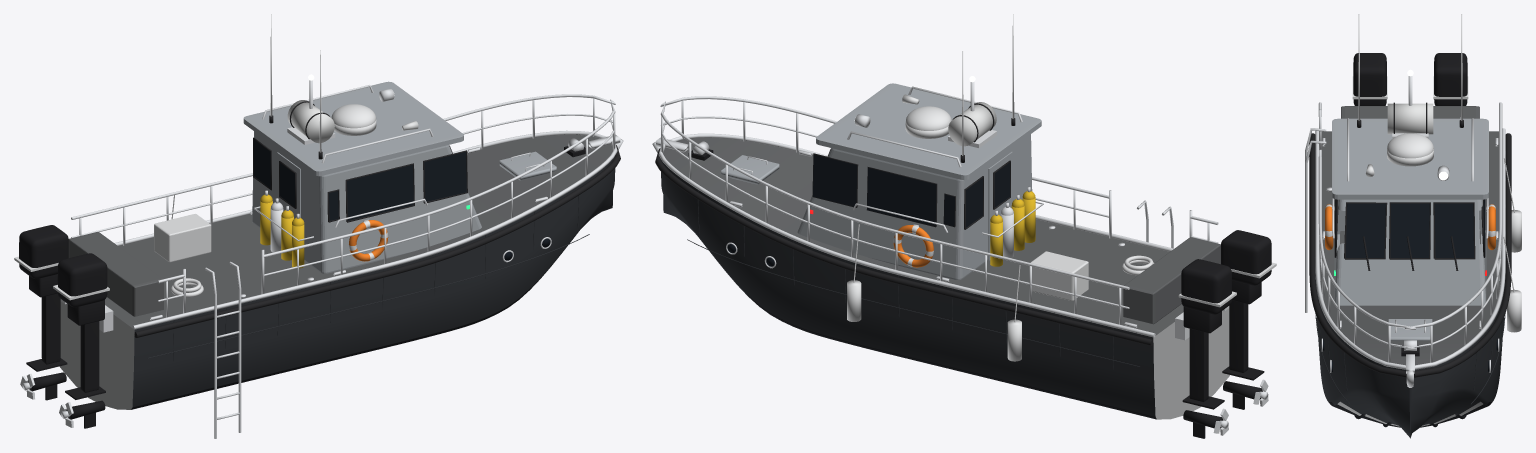
The model's file is boat.glb.
3 views of the same model, side by side, from view 1: azimuth 30°, elevation 25°; view 2: azimuth 150°, elevation 25°; view 3: azimuth 270°, elevation 25° (orthographic). The views are drawn at different scales.
Parts seen in each view (by area): view 1: Hull, Cabin, Hardtop, Bench, RubRail.001, SideWin, RailTop.001, Gunwale.001, Cooler, Cowling, Cowling.001, RailMid.001 (+13 smaller); view 2: Hull, Cabin, Hardtop, Bench, RubRail.002, SideWin.001, RailTop.001, Gunwale.002, Cowling.001, Cowling, Cooler, RailMid.001 (+13 smaller); view 3: Hull, Hardtop, Cabin, Windshield.001, Windshield, Windshield.002, RubRail.001, RubRail.002, RailTop.001, Cowling, Cowling.001, LifeRaft (+15 smaller).
Part boxes in pixels (left/top/right/bottom): Hull: left=59, top=135, right=615, bottom=409; Cabin: left=252, top=131, right=481, bottom=273; Hardtop: left=243, top=81, right=463, bottom=176; Bench: left=68, top=232, right=163, bottom=316; RubRail.001: left=134, top=145, right=620, bottom=337; SideWin: left=347, top=165, right=413, bottom=220; RailTop.001: left=71, top=94, right=615, bottom=257; Gunwale.001: left=132, top=140, right=617, bottom=329; Cooler: left=154, top=214, right=211, bottom=262; Cowling: left=57, top=253, right=107, bottom=307; Cowling.001: left=19, top=225, right=68, bottom=278; RailMid.001: left=71, top=114, right=614, bottom=276; Hull: left=660, top=137, right=1229, bottom=419; Cabin: left=797, top=134, right=1032, bottom=279; Hardtop: left=816, top=83, right=1041, bottom=180; Bench: left=1123, top=237, right=1220, bottom=324; RubRail.002: left=655, top=148, right=1153, bottom=345; SideWin.001: left=867, top=168, right=936, bottom=226; RailTop.001: left=660, top=96, right=1129, bottom=289; Gunwale.002: left=658, top=144, right=1155, bottom=337; Cowling.001: left=1181, top=259, right=1231, bottom=314; Cowling: left=1221, top=230, right=1271, bottom=285; Cooler: left=1030, top=251, right=1088, bottom=300; RailMid.001: left=661, top=116, right=1129, bottom=308; Hull: left=1315, top=131, right=1505, bottom=438; Hardtop: left=1332, top=118, right=1488, bottom=199; Cabin: left=1334, top=199, right=1486, bottom=305; Windshield.001: left=1390, top=203, right=1429, bottom=257; Windshield: left=1345, top=203, right=1385, bottom=257; Windshield.002: left=1434, top=203, right=1473, bottom=257; RubRail.001: left=1309, top=133, right=1406, bottom=377; RubRail.002: left=1414, top=133, right=1511, bottom=377; RailTop.001: left=1318, top=102, right=1502, bottom=329; Cowling: left=1353, top=53, right=1386, bottom=105; Cowling.001: left=1434, top=53, right=1467, bottom=105; LifeRaft: left=1387, top=103, right=1433, bottom=134.
Bounding box in the file's own units: 9.54 × 5.3 × 2.96.
